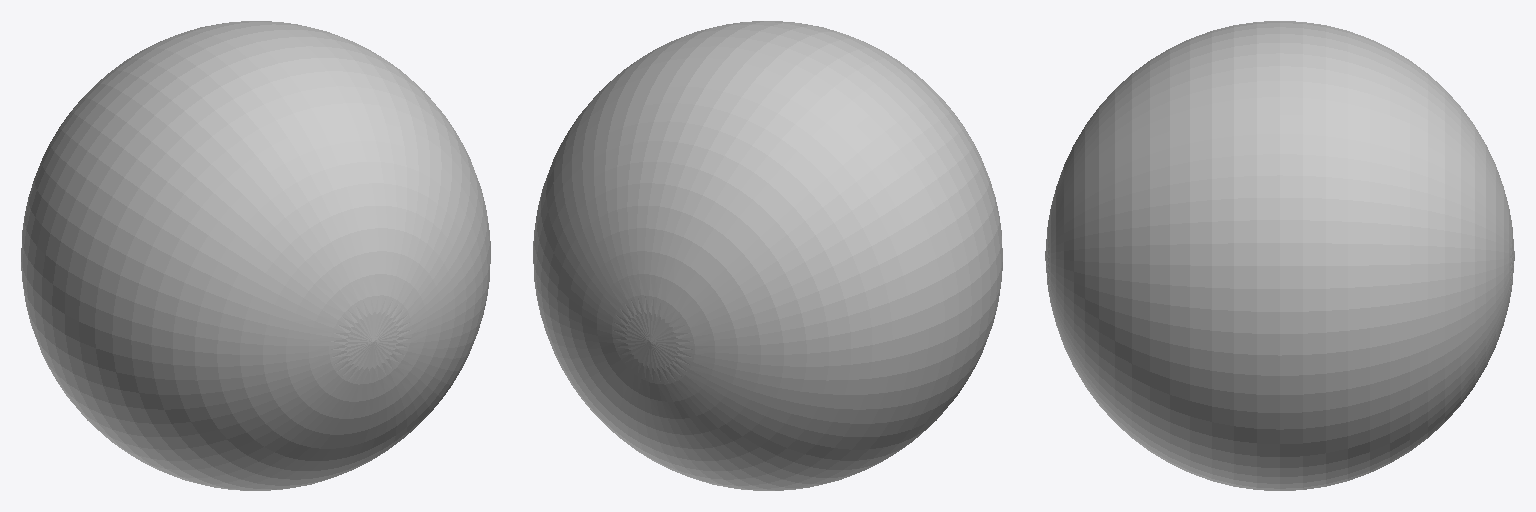
File: blend_uvsphere.obj
3 views of the same model, side by side, from view 1: azimuth 30°, elevation 25°; view 2: azimuth 150°, elevation 25°; view 3: azimuth 270°, elevation 25° (orthographic).
Visible parts, largest first — view 1: Sphere; view 2: Sphere; view 3: Sphere.
Boxes of the visible parts, <box> form: Sphere: <box>21,21,490,490</box>; Sphere: <box>533,21,1002,490</box>; Sphere: <box>1045,21,1514,490</box>.
Bounding box in the file's own units: 2 × 2 × 2.